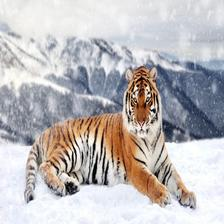tiger: (14, 63, 201, 205)
